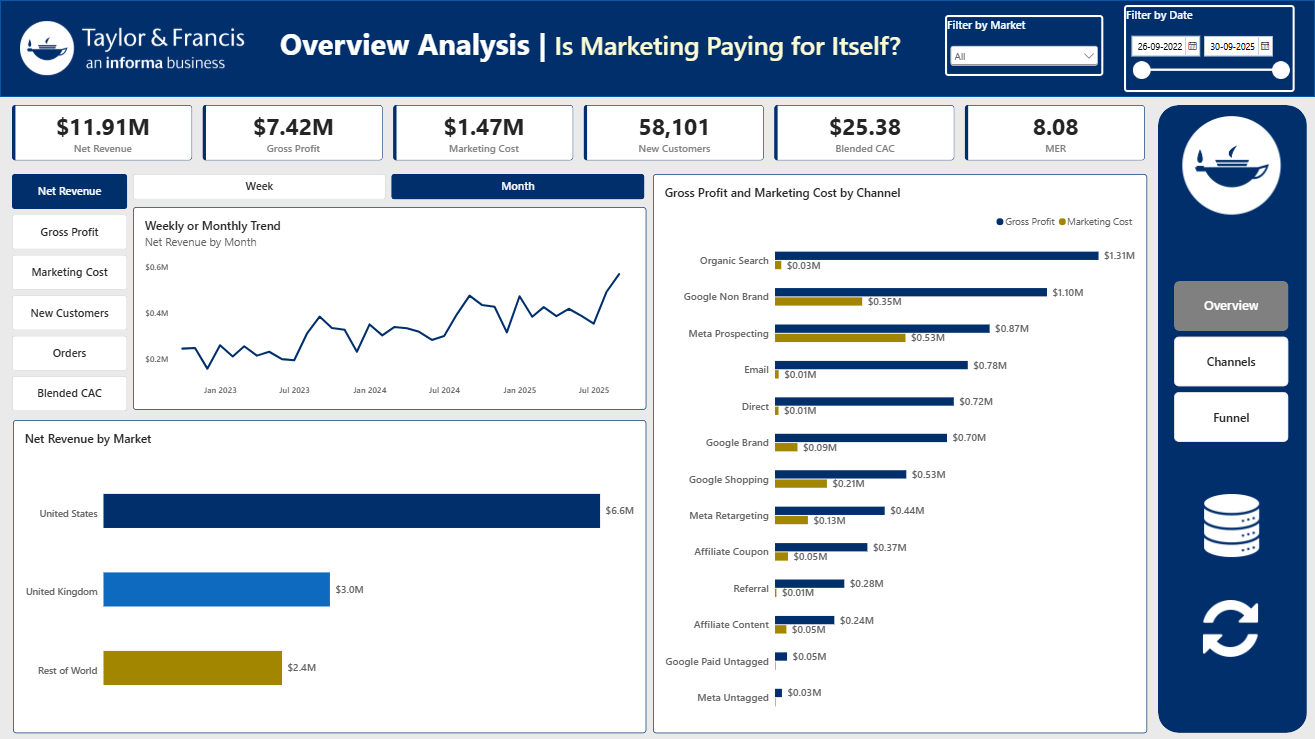

What the dashboard file says about the page in this screenshot:
{"tool":"powerbi","page":{"name":"Overview","canvas":[1920,1080],"ordinal":0},"visuals":[{"type":"advancedSlicerVisual","fields":{"Values":["Trend Metric.Trend Metric"]},"box":[17.9,253.2,168.3,347],"z":0},{"type":"advancedSlicerVisual","fields":{"Values":["Trend Period.Trend Period"]},"box":[193.6,253.2,747.7,37.2],"z":1000},{"type":"shape","box":[0,0,1920,141.5],"z":2000},{"type":"image","box":[29.2,11.7,327.4,117.4],"z":3000},{"type":"textbox","box":[408.5,33.6,916.1,73],"z":4000},{"type":"shape","box":[1689.1,153.4,217.5,916.1],"z":5000},{"type":"image","box":[1707,169.8,181.7,143.8],"z":6000},{"type":"cardVisual","fields":{"Data":["_Measures.Net Revenue","_Measures.Gross Profit","_Measures.Marketing Cost","_Measures.New Customers","_Measures.Blended CAC","_Measures.MER"]},"box":[17.9,153.4,1656.4,81.9],"z":7000},{"type":"slicer","title":"Filter by Date","fields":{"Values":["Date.Date"]},"box":[1640,7.4,248.8,126.6],"z":8000},{"type":"slicer","title":"Filter by Market","fields":{"Values":["Market.market_name"]},"box":[1379.3,22.3,230.9,89],"z":9000},{"type":"lineChart","title":"Weekly or Monthly Trend","fields":{"Category":["Date.Month Start"],"Y":["_Measures.Net Revenue"]},"box":[193.6,302.4,749.2,296.4],"z":10000},{"type":"clusteredBarChart","title":"Gross Profit and Marketing Cost by Channel","fields":{"Category":["Channel.channel_label"],"Y":["_Measures.Gross Profit","_Measures.Marketing Cost"]},"box":[953.3,253.2,720.9,816.3],"z":11000},{"type":"clusteredBarChart","title":"Net Revenue by Market","fields":{"Category":["Market.market_name"],"Y":["_Measures.Net Revenue"]},"box":[19,612.8,923.5,457.3],"z":12000},{"type":"image","box":[1731.8,875.4,126.9,83.2],"z":13000},{"type":"pageNavigator","box":[1712.8,410,167.8,236.4],"z":14000},{"type":"image","box":[1744.9,720.7,103.6,91.9],"z":15000}]}

Visuals, with their boxes in screenshot pixels (x1, y1, x2, y2), scaled from the page's 1920x1080 canvas onto the 1315x739 screenshot:
advancedSlicerVisual - Trend Metric.Trend Metric: (x1=12, y1=173, x2=128, y2=411)
advancedSlicerVisual - Trend Period.Trend Period: (x1=133, y1=173, x2=645, y2=199)
shape: (x1=0, y1=0, x2=1314, y2=97)
image: (x1=20, y1=8, x2=244, y2=88)
textbox: (x1=280, y1=23, x2=907, y2=73)
shape: (x1=1157, y1=105, x2=1306, y2=732)
image: (x1=1169, y1=116, x2=1294, y2=215)
cardVisual - _Measures.Net Revenue x _Measures.Gross Profit: (x1=12, y1=105, x2=1147, y2=161)
"Filter by Date" slicer: (x1=1123, y1=5, x2=1294, y2=92)
"Filter by Market" slicer: (x1=945, y1=15, x2=1103, y2=76)
"Weekly or Monthly Trend" lineChart: (x1=133, y1=207, x2=646, y2=410)
"Gross Profit and Marketing Cost by Channel" clusteredBarChart: (x1=653, y1=173, x2=1147, y2=732)
"Net Revenue by Market" clusteredBarChart: (x1=13, y1=419, x2=646, y2=732)
image: (x1=1186, y1=599, x2=1273, y2=656)
pageNavigator: (x1=1173, y1=281, x2=1288, y2=442)
image: (x1=1195, y1=493, x2=1266, y2=556)
